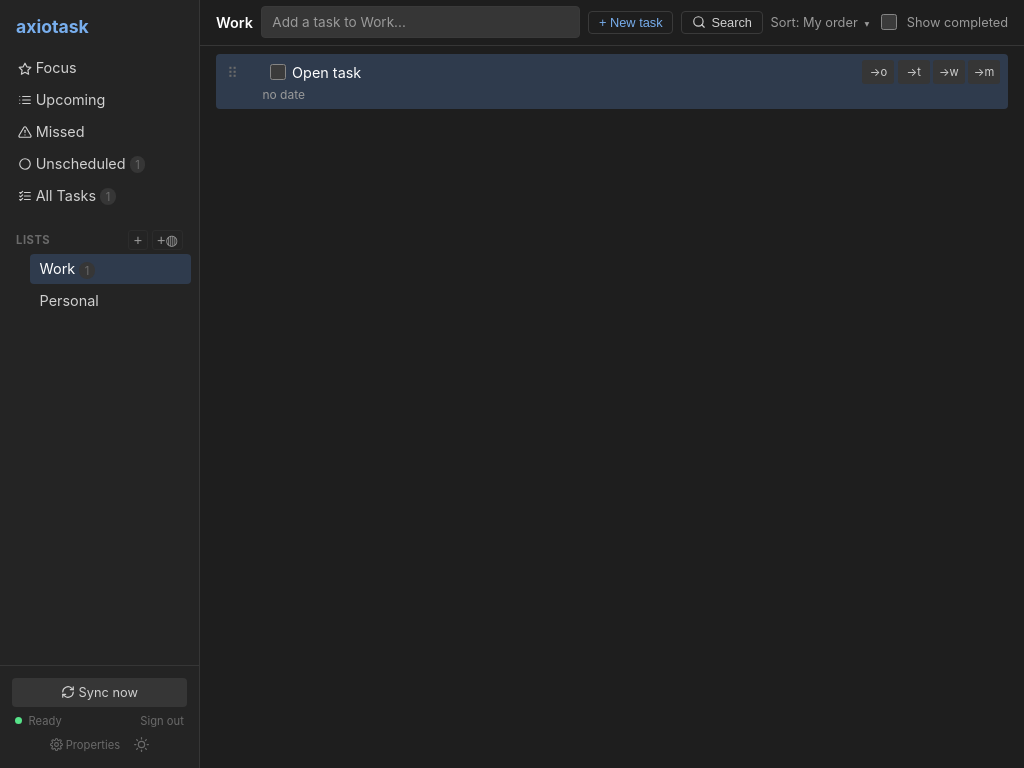
it: UI State Persistence: showCompleted › persists showCompleted to localStorage when toggled
Expected: the text "Open task" is shown, [292,64,361,81]
Click the checkbox labelled "Show completed": click(889, 22) [881,14,897,30]
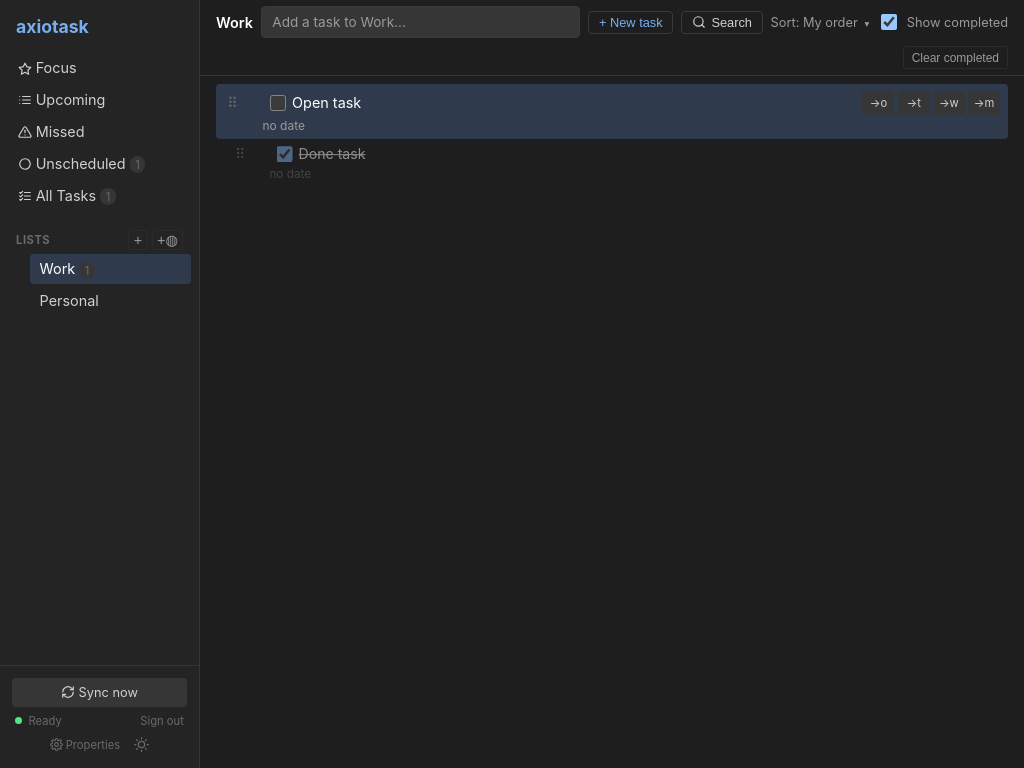
Expected: the text "Done task" is shown, [298,146,365,163]
